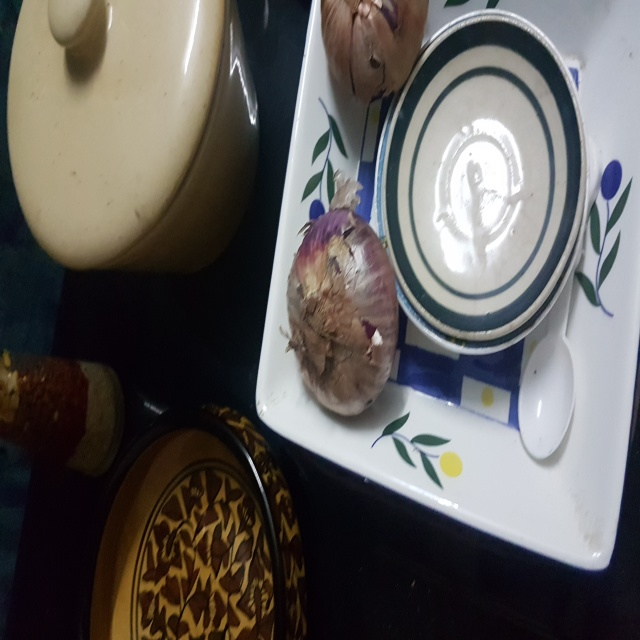onion: (279, 202, 419, 424)
